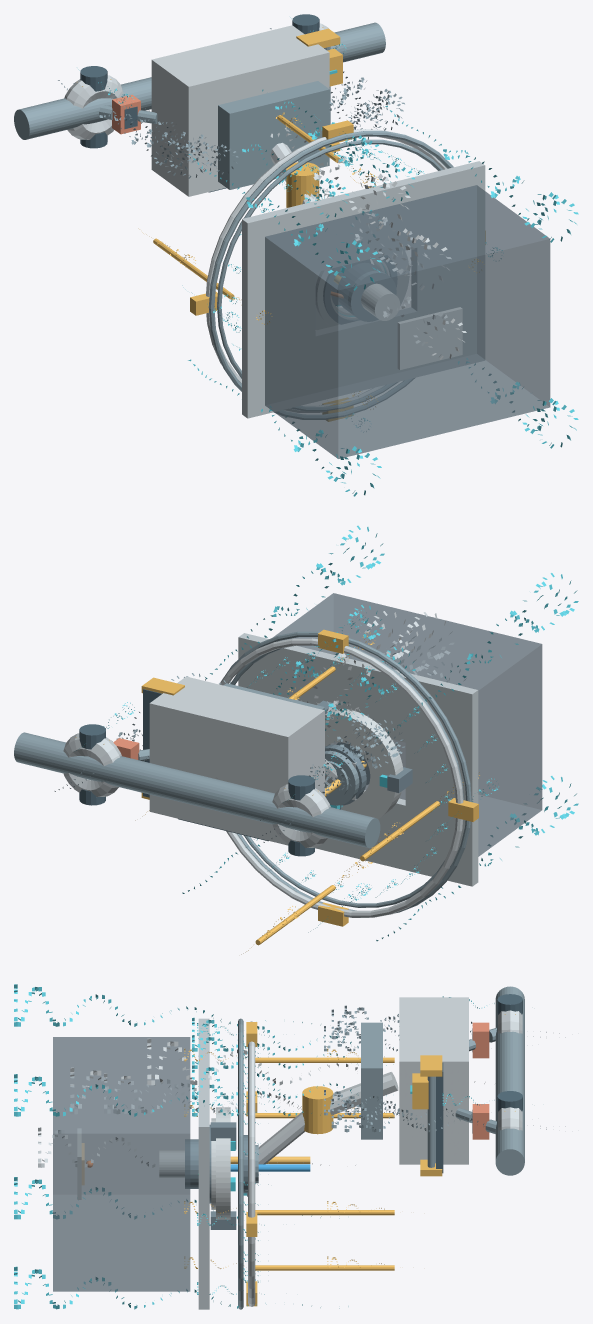
File: HARBOR-DOCK-MIST-robot.glb
The picture shows the model from 3 angles, top to bottom: view 1: azimuth 30°, elevation 25°; view 2: azimuth 150°, elevation 25°; view 3: azimuth 270°, elevation 25°; orthographic projection. The views are drawn at different scales.
Visible parts, largest first — view 1: bay, panel, metal, steel, head, cyan, amber, dark (×2), cell; view 2: metal, bay, panel, steel, cyan, amber, head, dark (×2); view 3: bay, metal, steel, amber, cyan, dark (×2), panel, head, cell, water.
Part boxes in pixels (left/top/right/bottom): bay: left=265, top=185, right=550, bottom=458; panel: left=242, top=161, right=485, bottom=418; metal: left=64, top=23, right=466, bottom=412; steel: left=14, top=22, right=453, bottom=419; head: left=316, top=251, right=462, bottom=369; cyan: left=78, top=17, right=578, bottom=496; amber: left=82, top=27, right=485, bottom=421; dark (×2): left=80, top=14, right=397, bottom=324; cell: left=112, top=94, right=140, bottom=134; metal: left=63, top=611, right=465, bottom=917; bay: left=272, top=593, right=542, bottom=856; panel: left=238, top=633, right=478, bottom=886; steel: left=14, top=631, right=471, bottom=913; cyan: left=74, top=525, right=578, bottom=941; amber: left=75, top=629, right=479, bottom=954; head: left=325, top=708, right=403, bottom=818; dark (×2): left=79, top=689, right=412, bottom=856; bay: left=53, top=1037, right=190, bottom=1291; metal: left=38, top=997, right=522, bottom=1306; steel: left=238, top=986, right=565, bottom=1309; amber: left=184, top=1014, right=515, bottom=1306; cyan: left=14, top=984, right=497, bottom=1309; dark (×2): left=185, top=994, right=522, bottom=1229; panel: left=198, top=1018, right=209, bottom=1309; head: left=77, top=1107, right=230, bottom=1219; cell: left=472, top=1022, right=489, bottom=1139; water: left=230, top=1164, right=310, bottom=1171.
Bounding box in the file's own units: 0.42 × 0.3369 × 0.6165.
